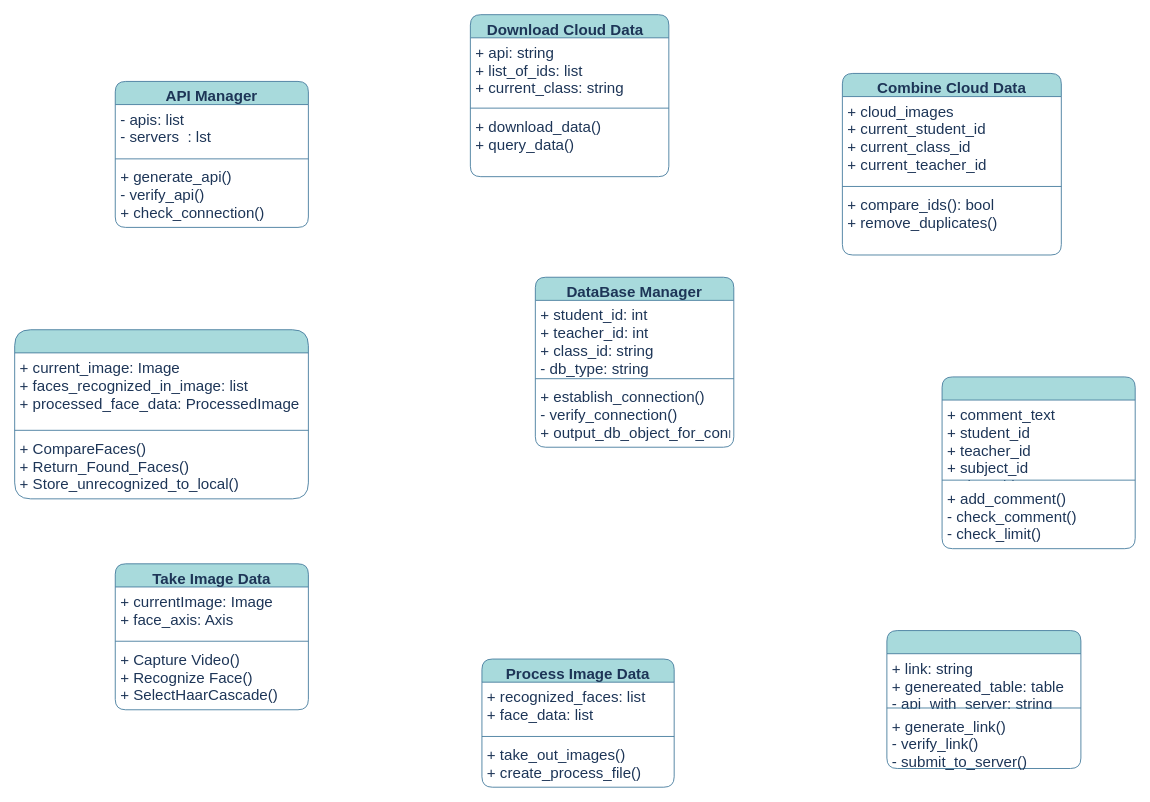
Some shapes in this 1150 by 802 pixel diagram are drawn without their labels. Each missing label, with the box of its shape:
Add Comments: (941, 376, 1135, 549)
Compare Images: (14, 329, 308, 499)
Create Shared Links: (886, 630, 1081, 769)
